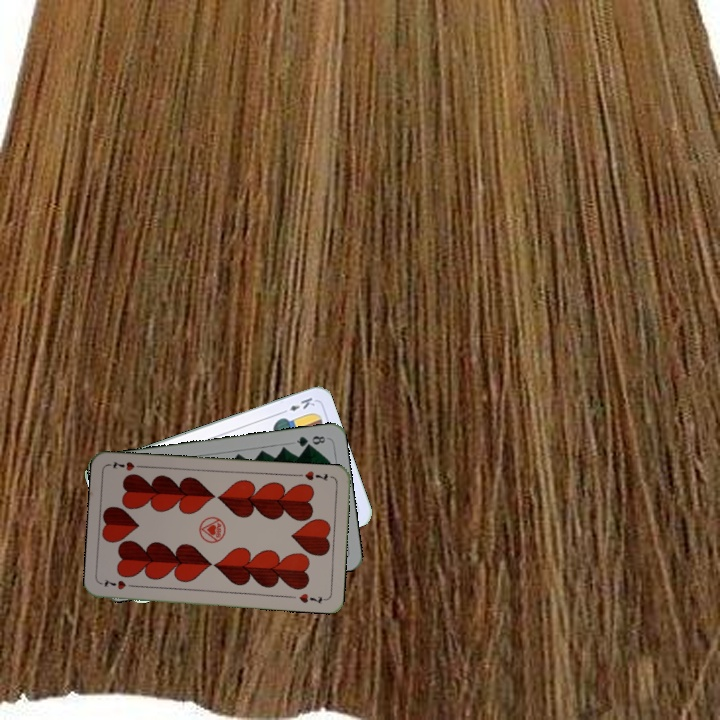EK: (277, 393, 318, 416)
G8: (292, 431, 328, 450)
H7: (100, 575, 139, 592), (301, 467, 330, 483)
